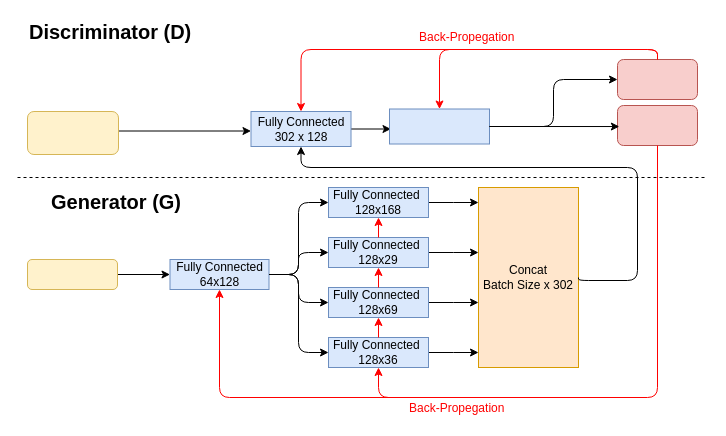
The diagram is 726 pixels wide and 436 high, and some of its shapes have lost their labels. Here are the shapes that lost their labels. From the top down, the centre of each, then its label:
At (657,79): "D Loss".
At (72,132): "Real Sample (s) BatchSize x 302".
At (439,126): "Fully Connected 128 x 1".
At (657,125): "G Loss".
At (72,274): "Noise (z) BatchSize x 64".
